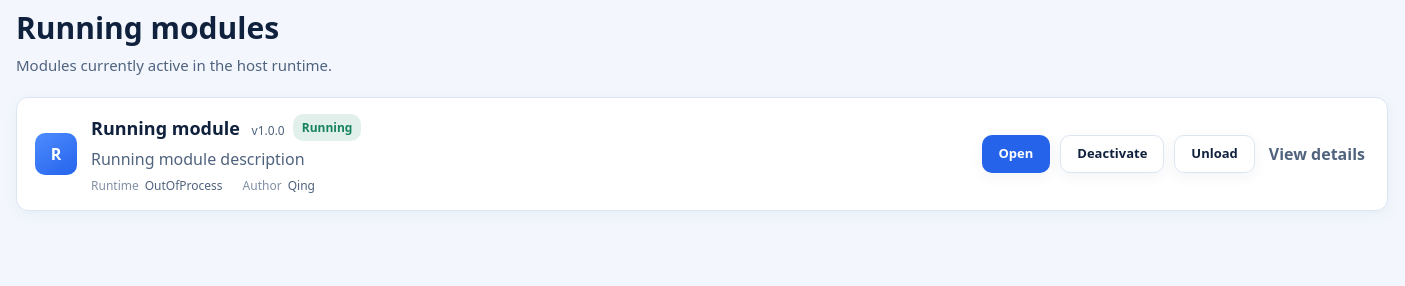
it: RunningModulesPage › preserves the host snapshot and resyncs only once after a failed shutdown operation
This screenshot has width=1405, height=286.
What coordinates should you click on to do the following:
click the button "Deactivate"
I would click on:
 (1112, 154)
Its box is [1060,135,1164,173].
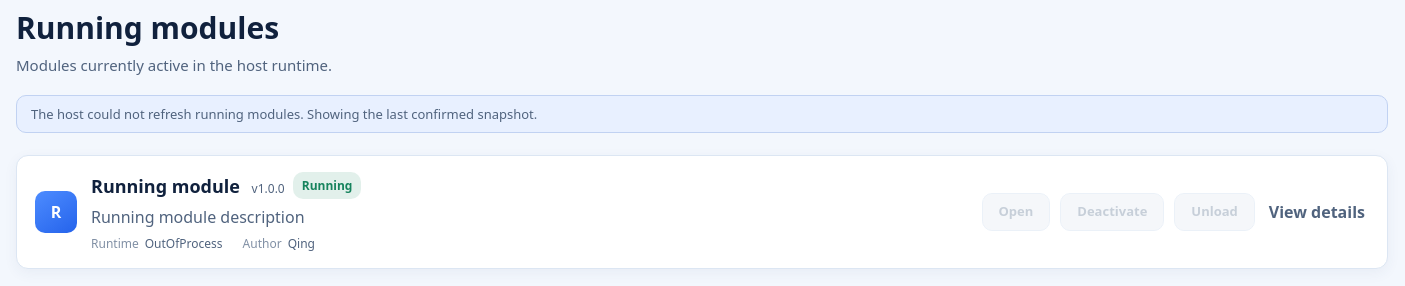
Check: the text "Running" is shown, box [293,172,361,199]
Check: the message reads "The host could not refresh running modules. Showing the last confirmed snapshot.", box [31,105,537,123]
